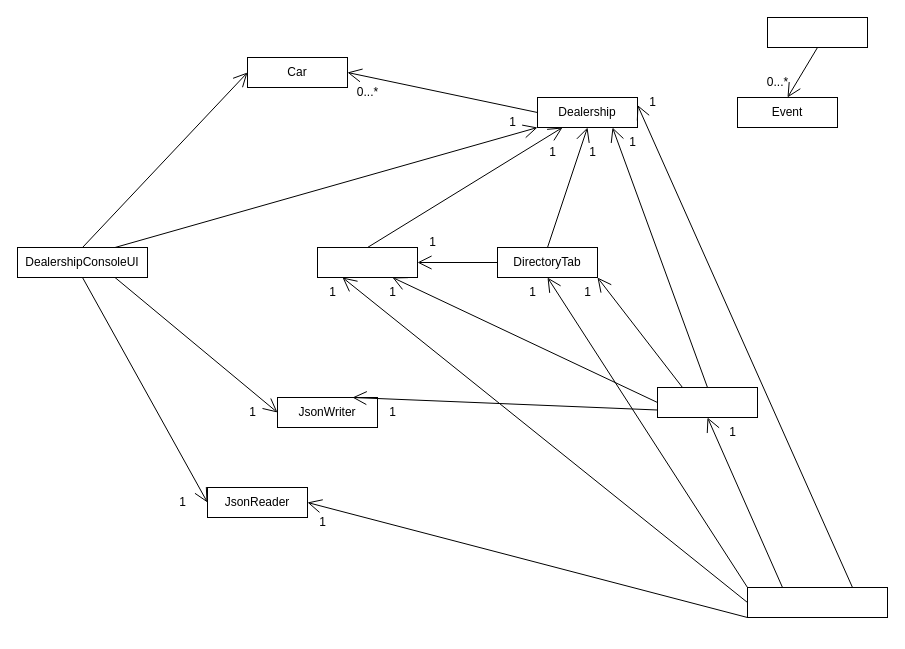
Some shapes in this 905 by 649 pixel diagram are drawn without their labels. The shapes that lost their labels are listed below. From the top down, each one's centre as x and y in pixels, then its label:
At pixel 817 32: "EventLog".
At pixel 367 262: "WarehouseTab".
At pixel 707 402: "HomeTab".
At pixel 817 602: "DealershipGraphicalUI".
